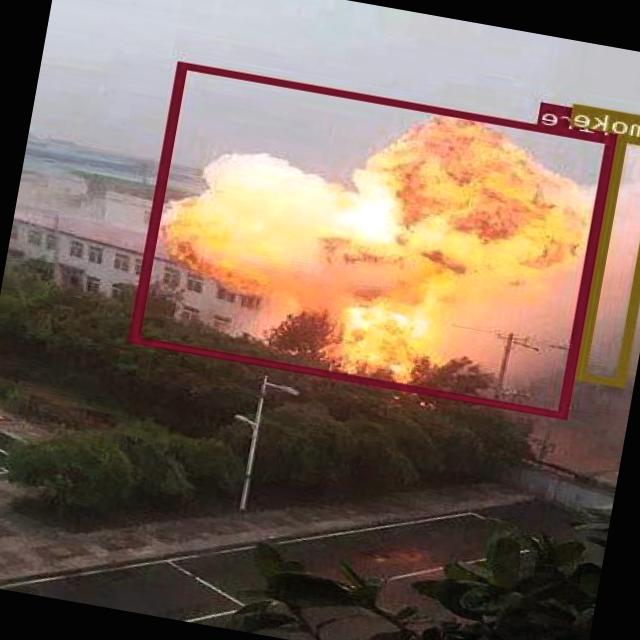fire: (131, 61, 618, 418)
smoke: (577, 134, 640, 386)
